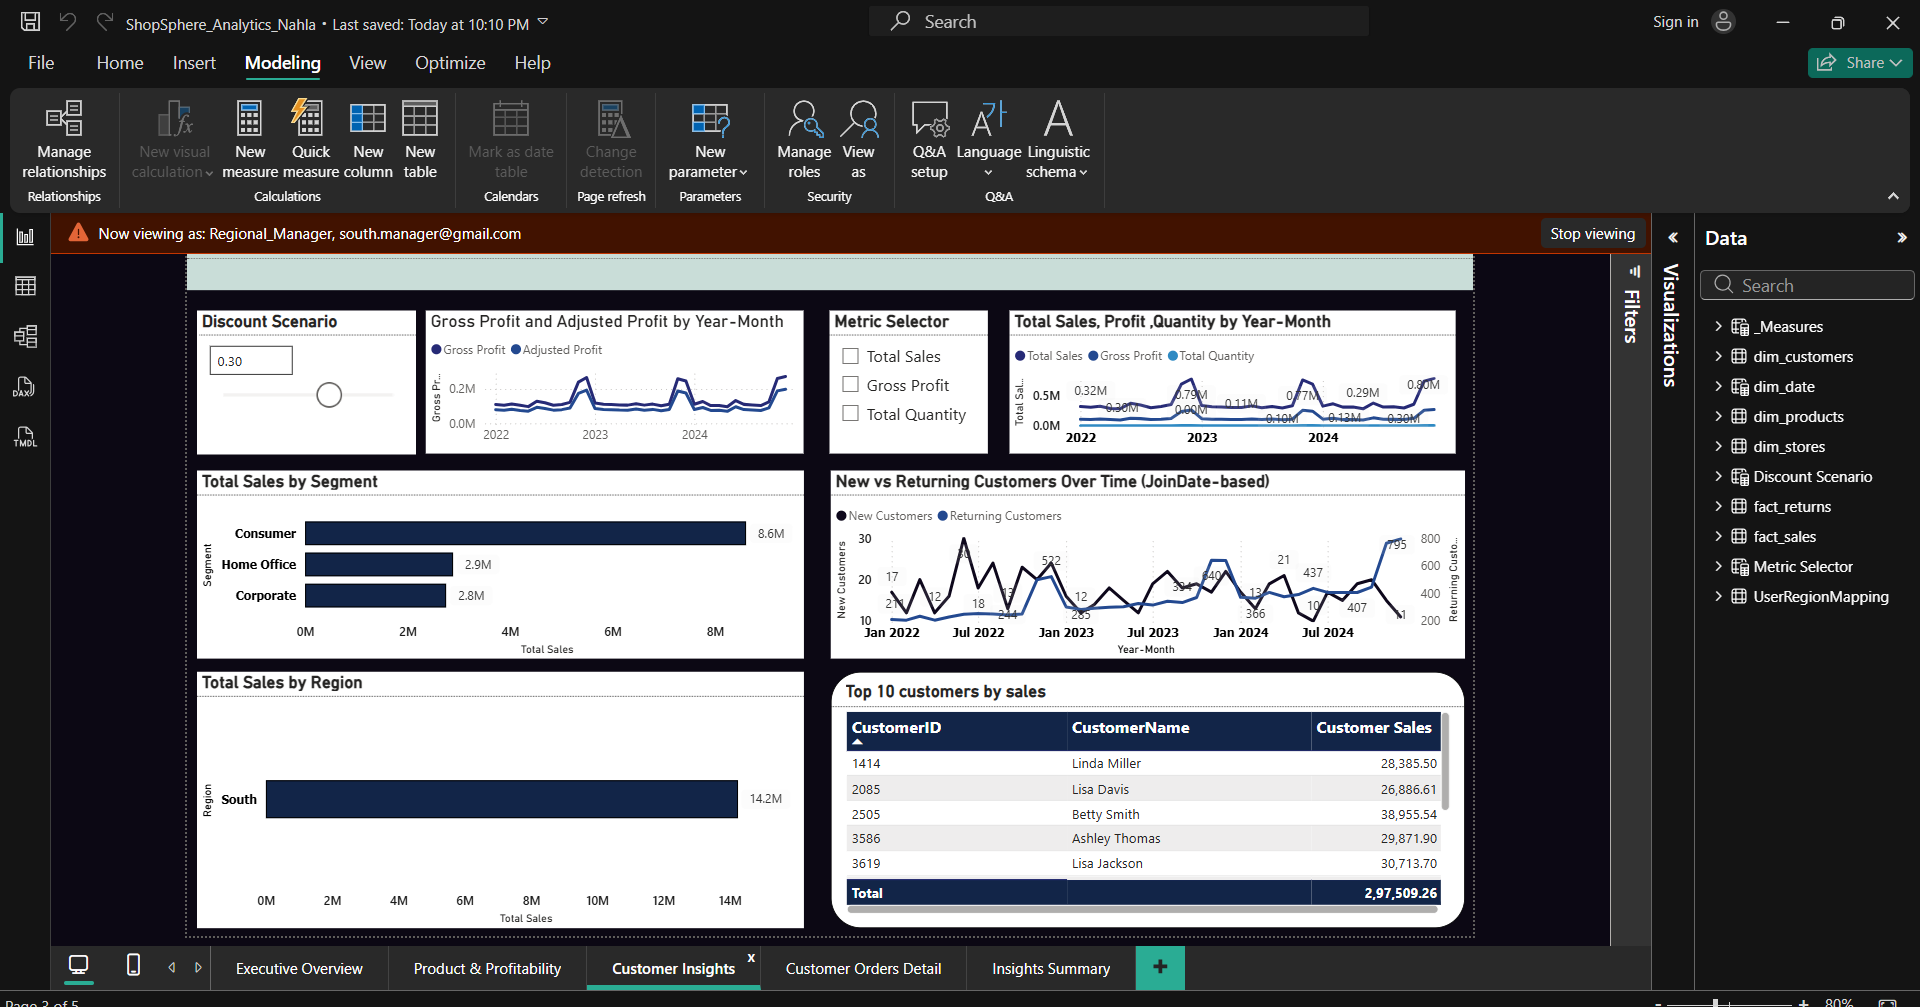

Layout of this report page (visuals, bound fields, positions):
{"tool":"powerbi","page":{"name":" Customer Insights","canvas":[1280,720],"ordinal":2},"visuals":[{"type":"textbox","title":"Customer Insights Dashboard","box":[0,0,1280,76.5],"z":0},{"type":"clusteredBarChart","fields":{"Y":["_Measures.Total Sales"],"Category":["dim_customers.Segment"]},"box":[10,256.2,603.8,187.5],"z":1000},{"type":"clusteredBarChart","fields":{"Y":["_Measures.Total Sales"],"Category":["dim_customers.Region"]},"box":[10,456.2,603.8,255],"z":2000},{"type":"lineChart","title":"New vs Returning Customers Over Time (JoinDate-based)","fields":{"Category":["dim_date.Year-Month"],"Y":["_Measures.New Customers"],"Y2":["_Measures.Returning Customers"]},"box":[641.2,256.2,631.2,187.5],"z":3000},{"type":"tableEx","title":"Top 10 customers by sales","fields":{"Values":["dim_customers.CustomerID","dim_customers.CustomerName","_Measures.Customer Sales"]},"box":[641.2,456.2,631.2,255],"z":4000},{"type":"actionButton","box":[0,0,100,40],"z":5000},{"type":"slicer","title":"Discount Scenario","fields":{"Values":["Discount Scenario.Discount Scenario"]},"box":[10,97.5,217.5,142.5],"z":6000},{"type":"lineChart","fields":{"Category":["dim_date.Year-Month"],"Y":["_Measures.Gross Profit","Discount Scenario.Adjusted Profit"]},"box":[237.5,97.5,376.2,142.5],"z":7000},{"type":"slicer","title":"Metric Selector","fields":{"Values":["Metric Selector.Metric Selector"]},"box":[640,97.5,157.5,142.5],"z":7001},{"type":"lineChart","title":"Total Sales, Profit ,Quantity by Year-Month","fields":{"Category":["dim_date.Year-Month"],"Y":["_Measures.Total Sales","_Measures.Gross Profit","_Measures.Total Quantity"]},"box":[818.8,97.5,443.8,142.5],"z":7002}]}

Visuals, with their boxes on the page's 1280x720 design canvas (x1, y1, x2, y2). These are canvas units, not pixel positions in the 1920x1007 screenshot, which may show the page scaled, cropped or inside an application window:
"Customer Insights Dashboard" textbox: [0,0,1280,76]
clusteredBarChart - _Measures.Total Sales x dim_customers.Segment: [10,256,614,444]
clusteredBarChart - _Measures.Total Sales x dim_customers.Region: [10,456,614,711]
"New vs Returning Customers Over Time (JoinDate-based)" lineChart: [641,256,1272,444]
"Top 10 customers by sales" tableEx: [641,456,1272,711]
actionButton: [0,0,100,40]
"Discount Scenario" slicer: [10,98,228,240]
lineChart - dim_date.Year-Month x _Measures.Gross Profit: [238,98,614,240]
"Metric Selector" slicer: [640,98,798,240]
"Total Sales, Profit ,Quantity by Year-Month" lineChart: [819,98,1263,240]
